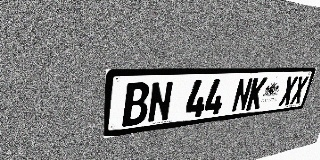4: (184, 80, 210, 119), (203, 79, 227, 116)
B: (122, 82, 150, 127)
K: (246, 77, 267, 110)
N: (147, 81, 174, 123), (231, 78, 254, 112)
X: (278, 76, 298, 106), (289, 76, 309, 105)
